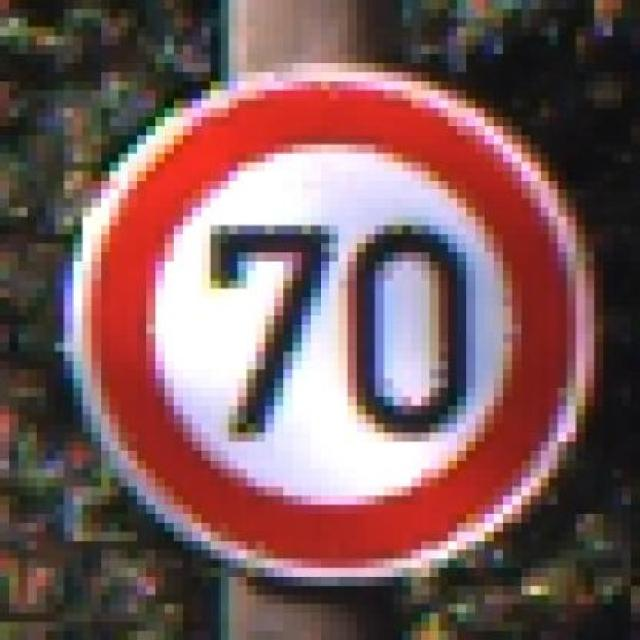forb_speed_over_70: (73, 77, 581, 577)
